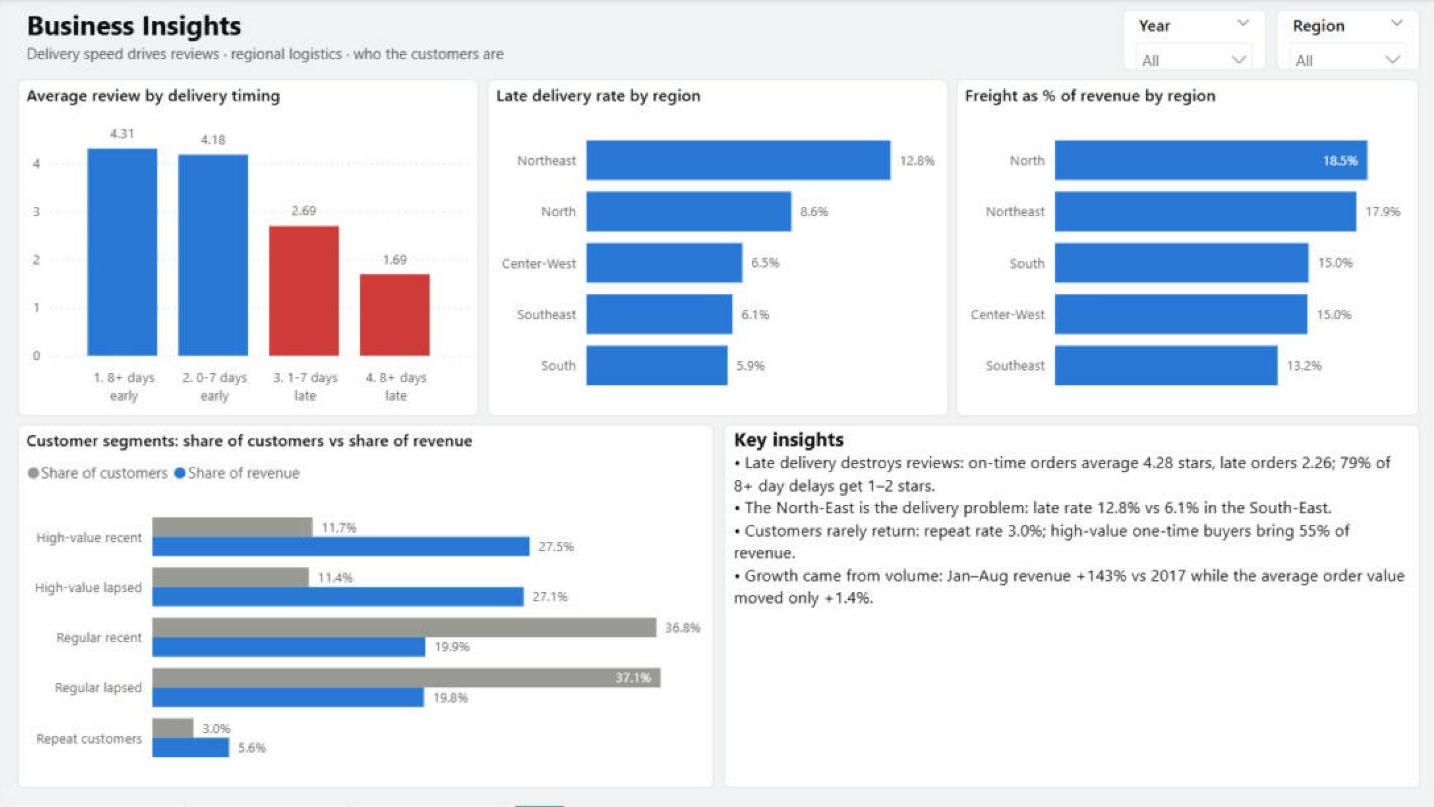

This screenshot's page, from the dashboard's own definition file:
{"tool":"powerbi","page":{"name":"Business Insights","canvas":[1280,720],"ordinal":2},"visuals":[{"type":"textbox","box":[16,8,976,56],"z":1000},{"type":"slicer","fields":{"Values":["Date.Year"]},"box":[1000,10,128,54],"z":2000},{"type":"slicer","fields":{"Values":["dim_state.region"]},"box":[1136,10,128,54],"z":3000},{"type":"clusteredColumnChart","title":"Average review by delivery timing","fields":{"Category":["fact_orders.delivery_timing"],"Y":["_Measures.Avg Review (timed deliveries)"]},"box":[16,72,410,300],"z":4000},{"type":"clusteredBarChart","title":"Late delivery rate by region","fields":{"Category":["dim_state.region"],"Y":["_Measures.Late Delivery Rate"]},"box":[434,72,410,300],"z":5000},{"type":"clusteredBarChart","title":"Freight as % of revenue by region","fields":{"Category":["dim_state.region"],"Y":["_Measures.Freight Share %"]},"box":[852,72,412,300],"z":6000},{"type":"clusteredBarChart","title":"Customer segments: share of customers vs share of revenue","fields":{"Category":["dim_customers.segment"],"Y":["_Measures.Segment Customer Share %","_Measures.Segment Revenue Share %"]},"box":[16,380,620,324],"z":7000},{"type":"textbox","box":[644,380,620,324],"z":8000}]}

Visuals, with their boxes in screenshot pixels (x1, y1, x2, y2), scaled from the page's 1280x720 canvas onto the 1434x807 screenshot:
textbox: x1=18 y1=9 x2=1111 y2=72
slicer - Date.Year: x1=1120 y1=11 x2=1264 y2=72
slicer - dim_state.region: x1=1273 y1=11 x2=1416 y2=72
"Average review by delivery timing" clusteredColumnChart: x1=18 y1=81 x2=477 y2=417
"Late delivery rate by region" clusteredBarChart: x1=486 y1=81 x2=946 y2=417
"Freight as % of revenue by region" clusteredBarChart: x1=955 y1=81 x2=1416 y2=417
"Customer segments: share of customers vs share of revenue" clusteredBarChart: x1=18 y1=426 x2=713 y2=789
textbox: x1=721 y1=426 x2=1416 y2=789
